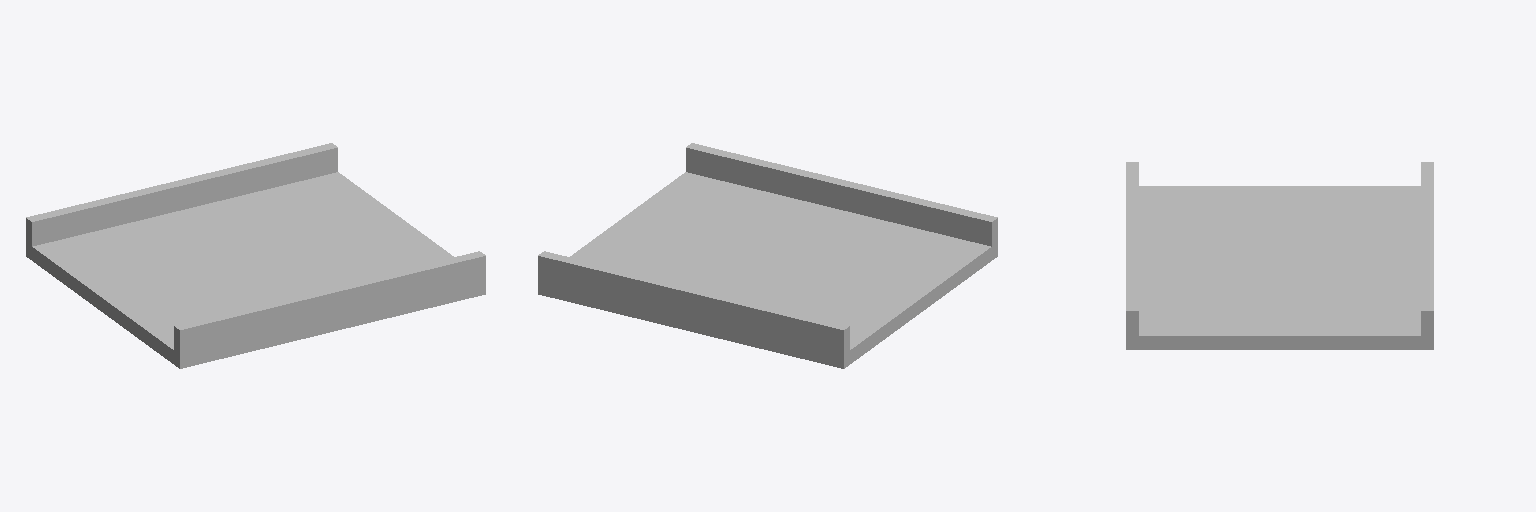
File: Finishline_Track.obj
3 views of the same model, side by side, from view 1: azimuth 30°, elevation 25°; view 2: azimuth 150°, elevation 25°; view 3: azimuth 270°, elevation 25° (orthographic).
Parts seen in each view (by area): view 1: Finishline_Track; view 2: Finishline_Track; view 3: Finishline_Track.
Part boxes in pixels (bbox=[...]): Finishline_Track: bbox=[26, 143, 485, 368]; Finishline_Track: bbox=[538, 143, 997, 368]; Finishline_Track: bbox=[1126, 162, 1433, 349].
Size of the model in its own units: 22.5 by 2.72 by 19.61.